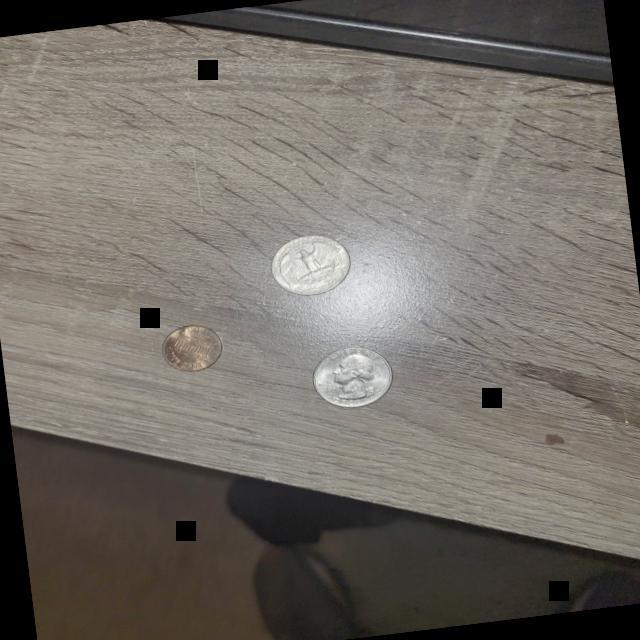Penny: (158, 318, 230, 381)
Quarter: (262, 224, 362, 304), (306, 338, 402, 416)
